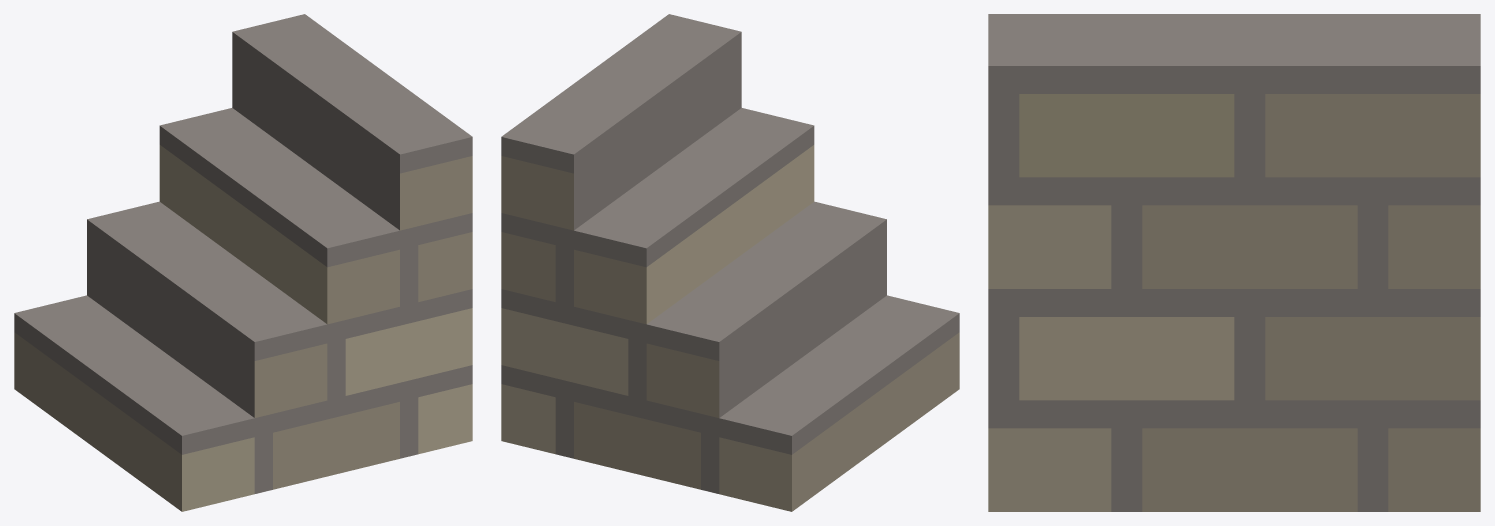
The model's file is brick-yellow.stairs-4.glb.
3 renders of one model, left to right at view 1: azimuth 30°, elevation 25°; view 2: azimuth 150°, elevation 25°; view 3: azimuth 270°, elevation 25°, orthographic. The views are drawn at different scales.
Size of the model in its own units: 1 by 1 by 1.
